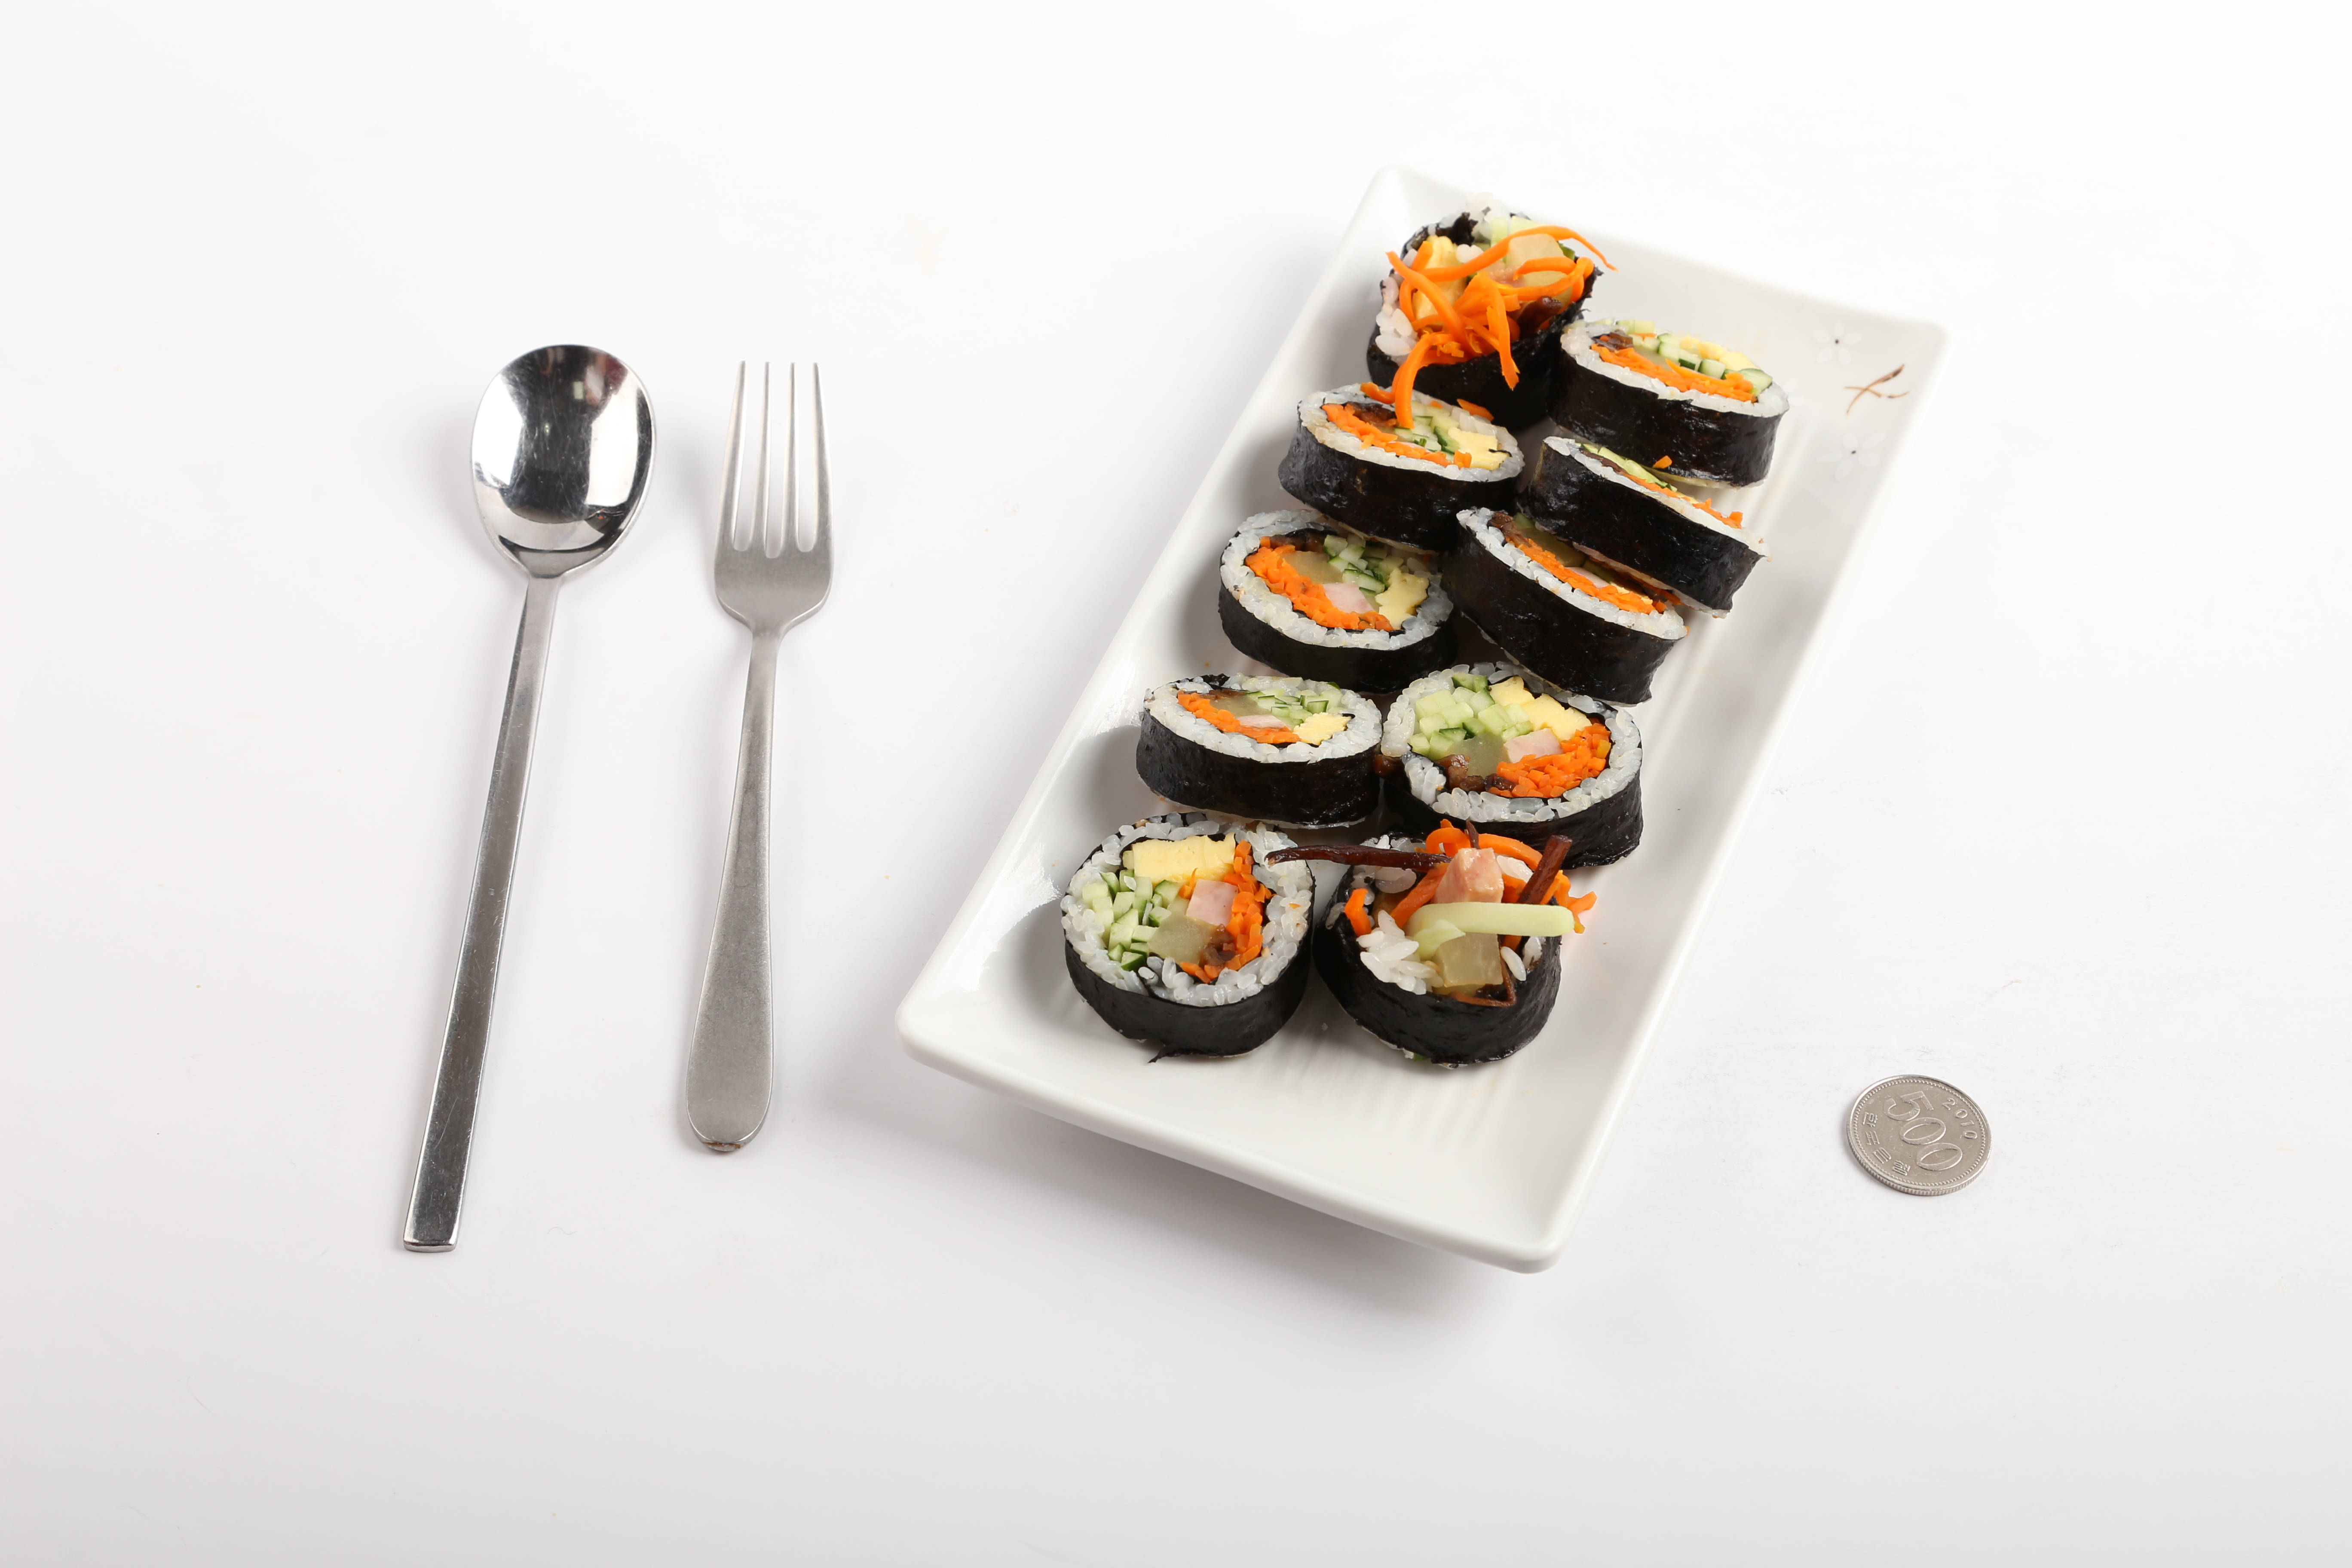dish: (891, 163, 1946, 1274)
ref_coin: (1839, 1067, 1997, 1200)
ref_fork: (702, 355, 838, 677)
ref_spoon: (465, 343, 656, 646)
김밥: (1057, 210, 1790, 1067)
